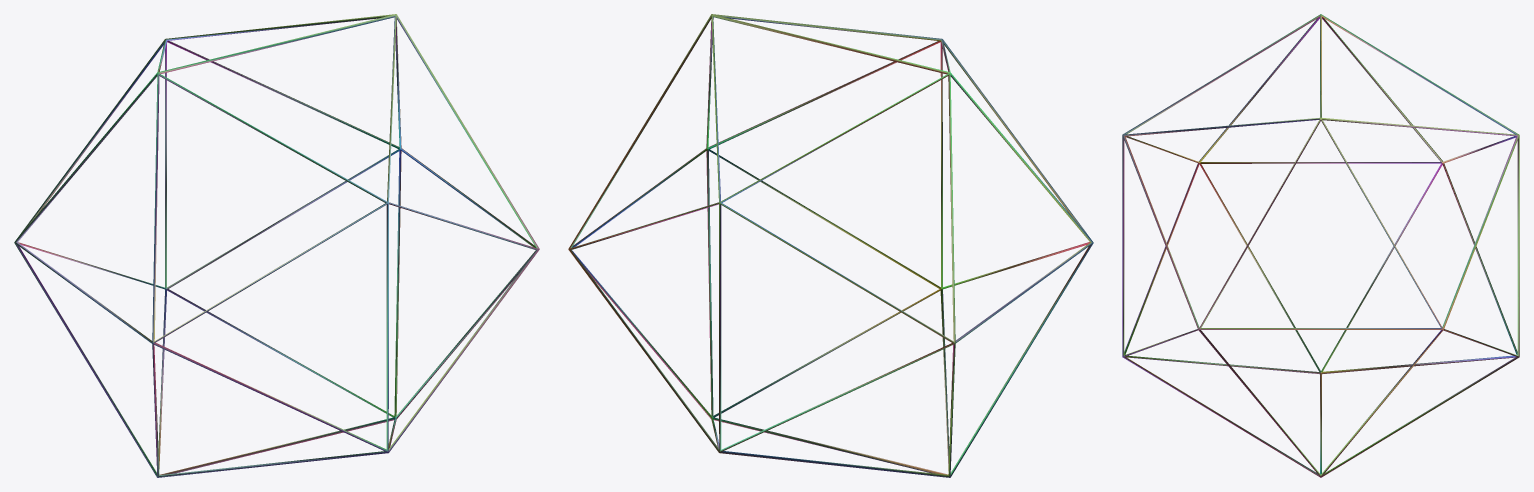
File: zeometry-wireframes-wire-icosahedron_v4.glb
3 views of the same model, side by side, from view 1: azimuth 30°, elevation 25°; view 2: azimuth 150°, elevation 25°; view 3: azimuth 270°, elevation 25° (orthographic). The views are drawn at different scales.
Visible parts, largest first — view 1: Wire Icosahedron_v4; view 2: Wire Icosahedron_v4; view 3: Wire Icosahedron_v4.
Part boxes in pixels (x1=…): Wire Icosahedron_v4: x1=14, y1=14, x2=539, y2=477; Wire Icosahedron_v4: x1=568, y1=14, x2=1093, y2=477; Wire Icosahedron_v4: x1=1122, y1=14, x2=1519, y2=477.
Bounding box in the file's own units: 0.4999 × 0.4999 × 0.5.
